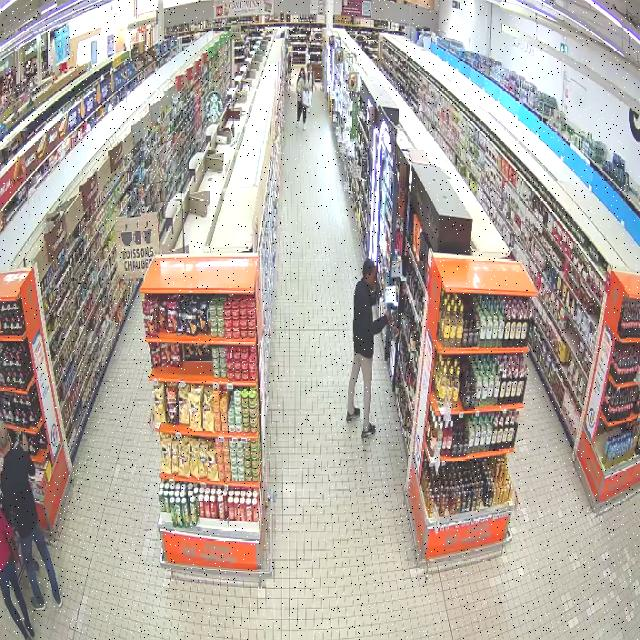article: (388, 317, 399, 336)
hands: (22, 433, 29, 452), (385, 311, 390, 321)
person: (0, 423, 60, 609), (346, 258, 388, 438)
